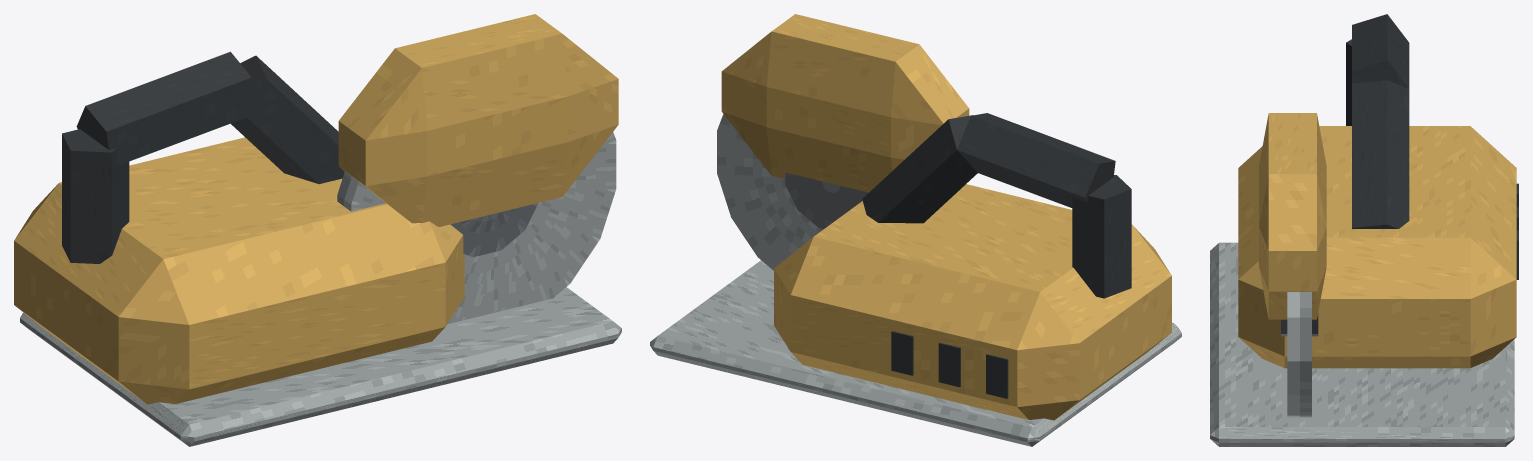
Rendered from circsaw_off.glb.
3 views of the same model, side by side, from view 1: azimuth 30°, elevation 25°; view 2: azimuth 150°, elevation 25°; view 3: azimuth 270°, elevation 25° (orthographic). The views are drawn at different scales.
Visible parts, largest first — view 1: block_motor body, block_blade guard, block_saw base shoe, block_working disc, block_operator handle 1, block_operator handle 2, block_operator handle 0, block_center fastener; view 2: block_motor body, block_blade guard, block_saw base shoe, block_operator handle 1, block_working disc, block_operator handle 2, block_operator handle 0, block_cooling slot (×3), block_center fastener; view 3: block_motor body, block_saw base shoe, block_blade guard, block_operator handle 2, block_operator handle 1, block_working disc, block_operator handle 0.
Boxes of the visible parts, left/top/right/bottom form: block_motor body: left=14, top=137, right=464, bottom=404; block_blade guard: left=338, top=14, right=618, bottom=226; block_saw base shoe: left=20, top=287, right=621, bottom=446; block_working disc: left=337, top=132, right=616, bottom=323; block_operator handle 1: left=76, top=51, right=256, bottom=165; block_operator handle 2: left=231, top=55, right=344, bottom=184; block_operator handle 0: left=62, top=129, right=129, bottom=263; block_center fastener: left=450, top=203, right=538, bottom=257; block_motor body: left=774, top=184, right=1171, bottom=420; block_blade guard: left=721, top=14, right=969, bottom=192; block_saw base shoe: left=650, top=260, right=1181, bottom=446; block_operator handle 1: left=957, top=113, right=1115, bottom=207; block_working disc: left=717, top=114, right=823, bottom=270; block_operator handle 2: left=862, top=115, right=977, bottom=223; block_operator handle 0: left=1072, top=175, right=1131, bottom=298; block_cooling slot (×3): left=891, top=331, right=1008, bottom=398; block_center fastener: left=785, top=172, right=868, bottom=228; block_motor body: left=1238, top=126, right=1516, bottom=368; block_saw base shoe: left=1210, top=242, right=1514, bottom=446; block_blade guard: left=1259, top=113, right=1326, bottom=319; block_operator handle 2: left=1352, top=80, right=1409, bottom=228; block_operator handle 1: left=1352, top=14, right=1409, bottom=88; block_working disc: left=1287, top=292, right=1311, bottom=417; block_operator handle 0: left=1346, top=39, right=1351, bottom=125.
Bounding box in the file's own units: 0.44 × 0.2477 × 0.2636.
Materials: 1 (1 with a texture image).
